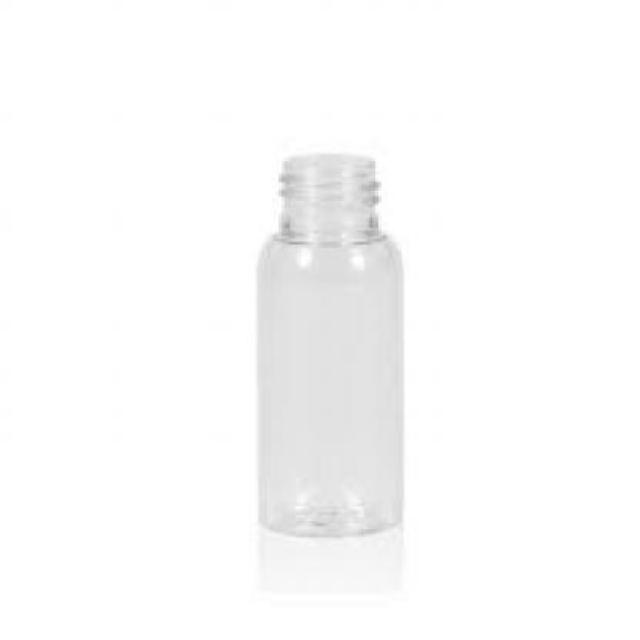kaca: (256, 151, 398, 535)
